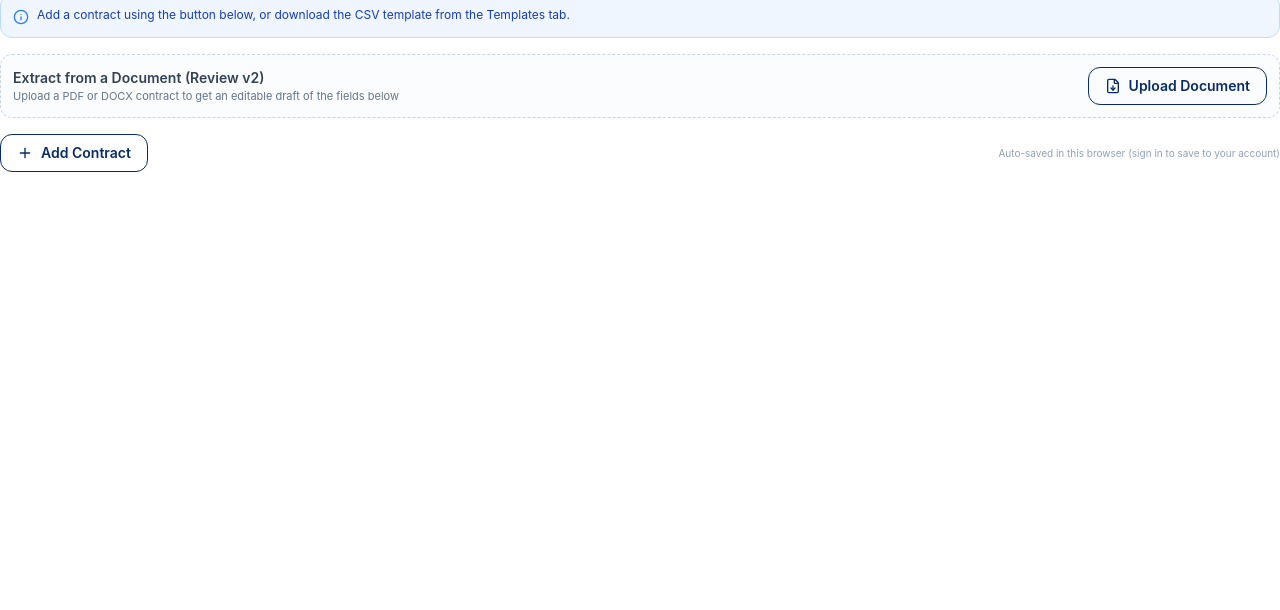
Review -- Apply NDA Best-Practice Defaults behavior › marks Commercial/Payment, Performance & Service, and Risk Allocation as N/A, leaving other categories untouched
Step 1. Click the button "Add Contract" → (74,153), box [0,134,148,172]
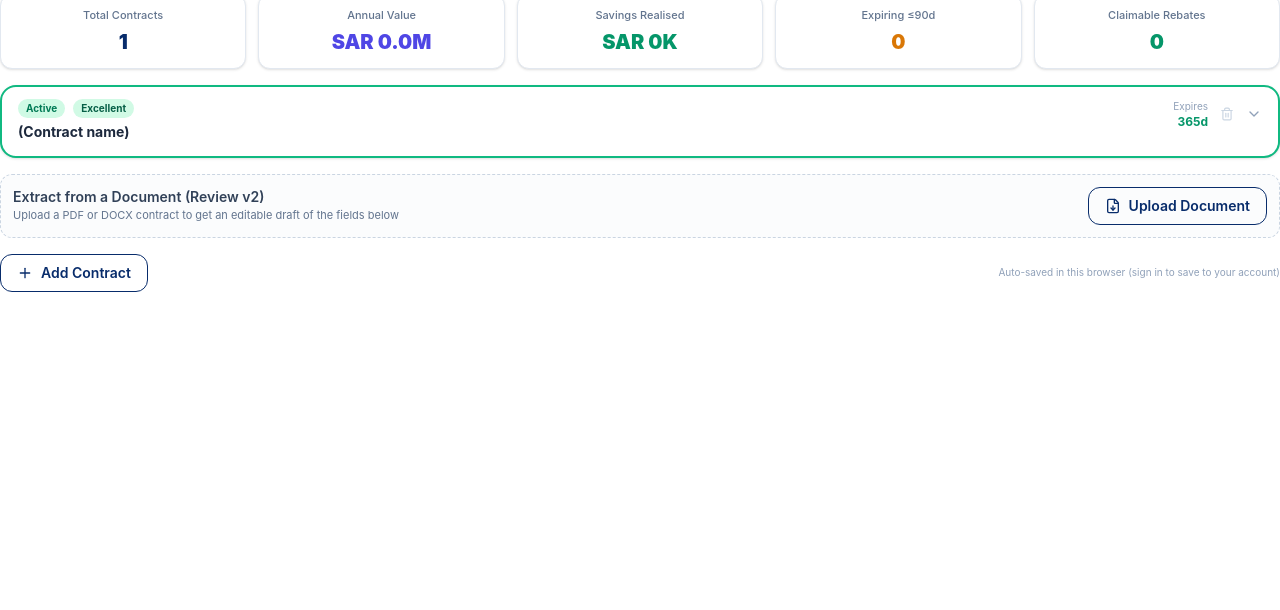
Step 2. Click the text "(Contract name)" → (74,131), box [18,122,130,140]
(page scrolled)
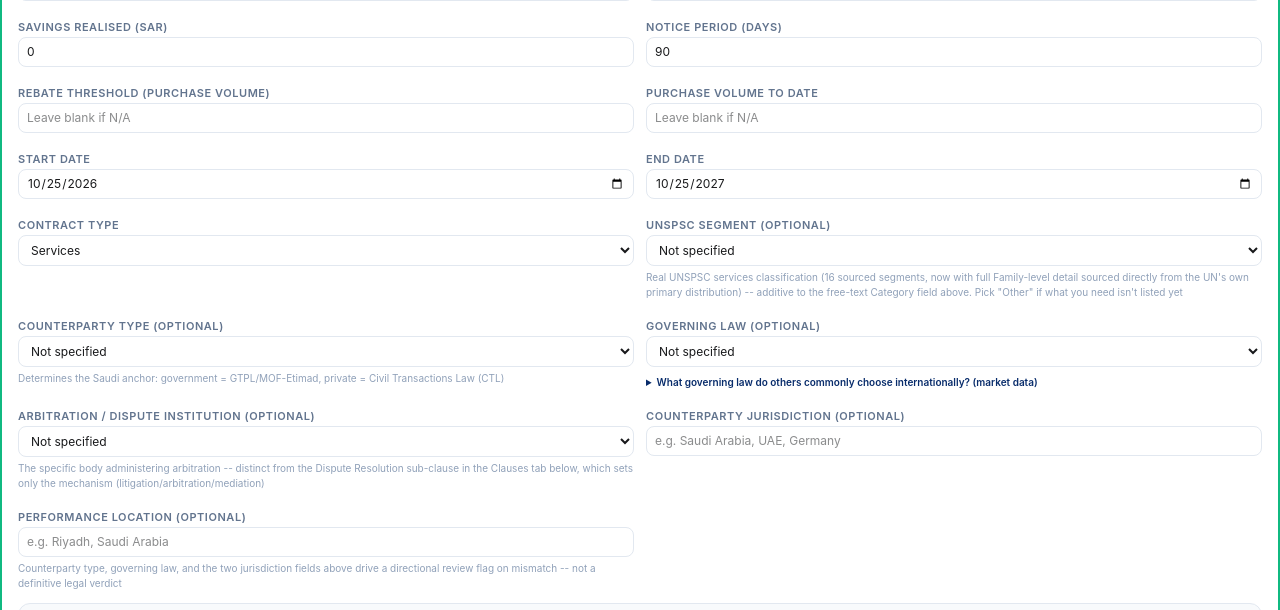
Step 3. Select "Non-Disclosure Agreement" in the dropdown showing "Services" below "Contract Type" → (326,250), box [18,234,634,266]
(page scrolled)
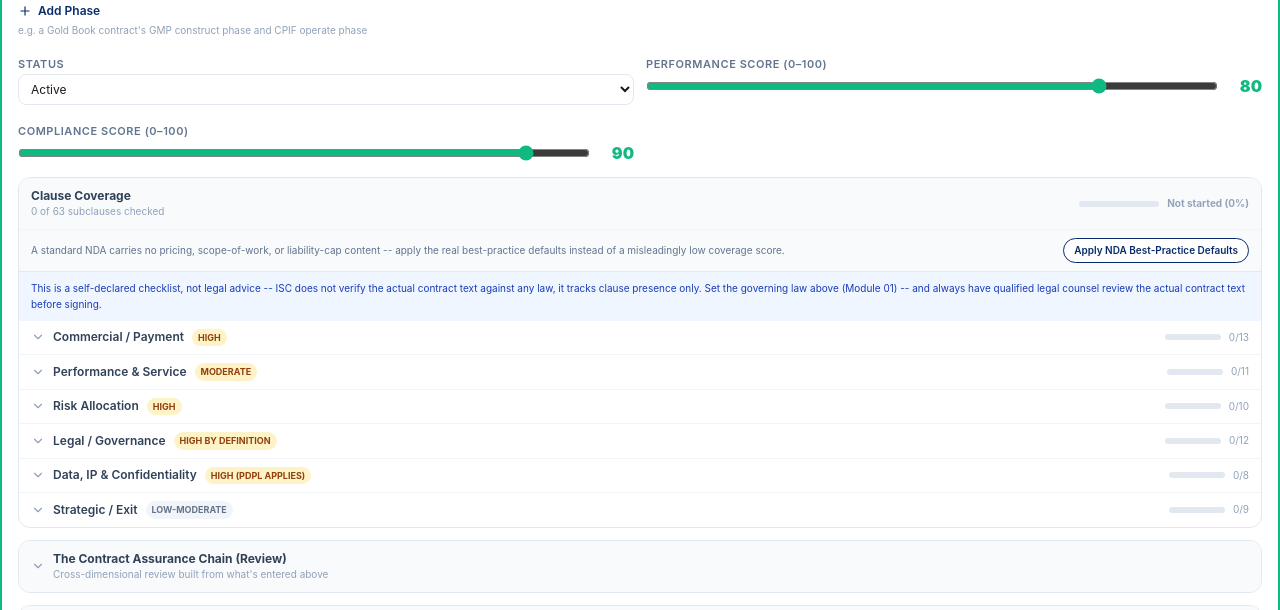
Step 4. Click the button "Apply NDA Best-Practice Defaults" → (1156,250), box [1063,238,1249,263]
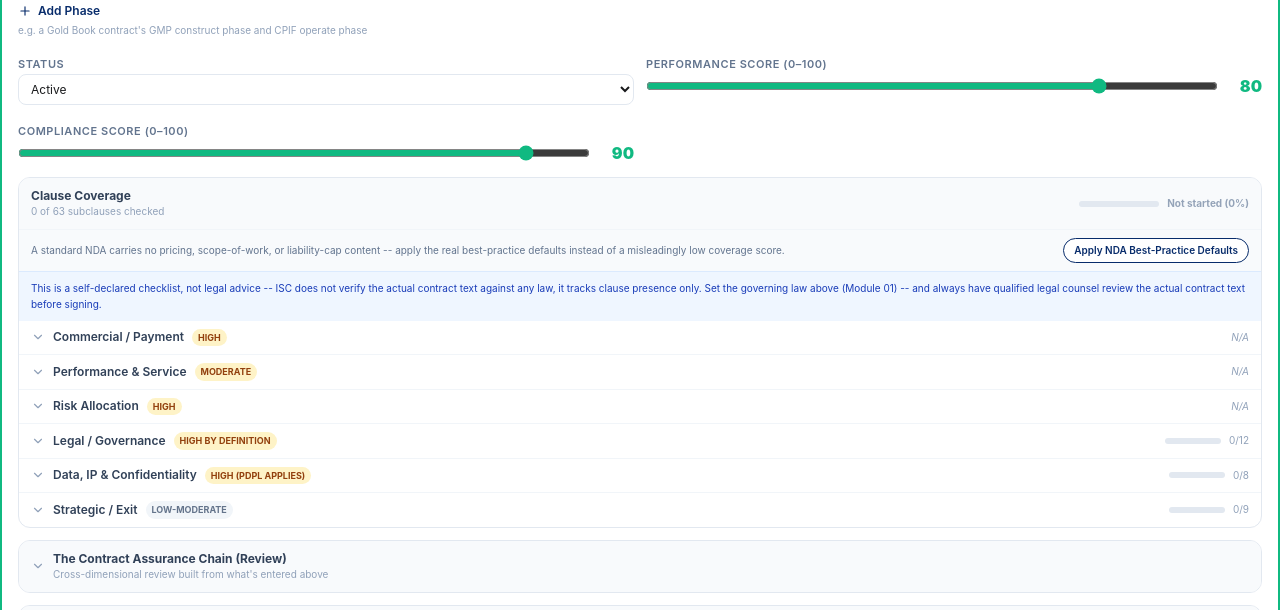
Now the 1st text "N/A" is shown, box [1231,330,1249,345]
Now the 2nd text "N/A" is shown, box [1231,364,1249,379]
Now the 3rd text "N/A" is shown, box [1231,399,1249,414]
